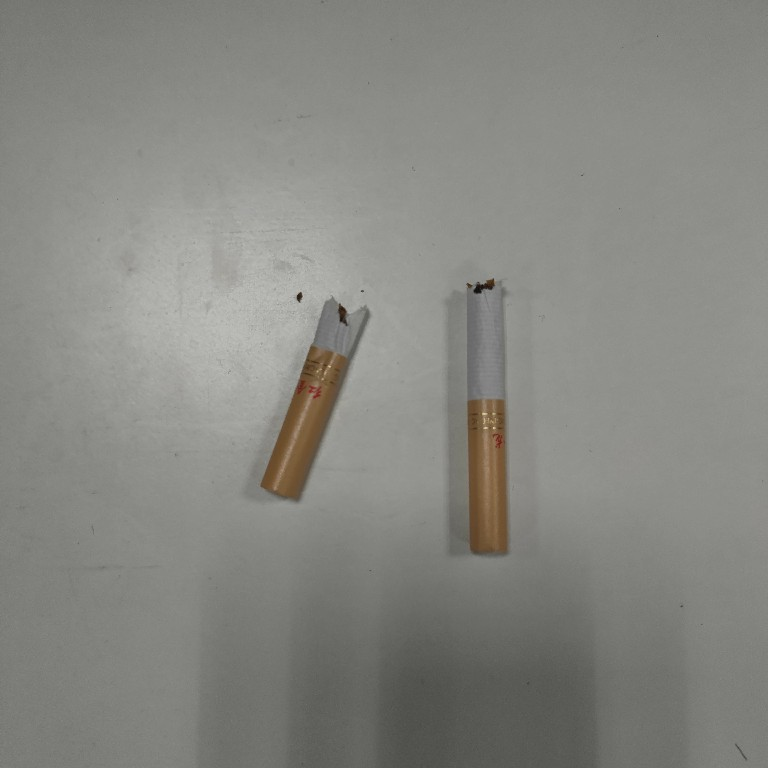cigarette: (255, 296, 373, 505), (462, 276, 512, 557)
